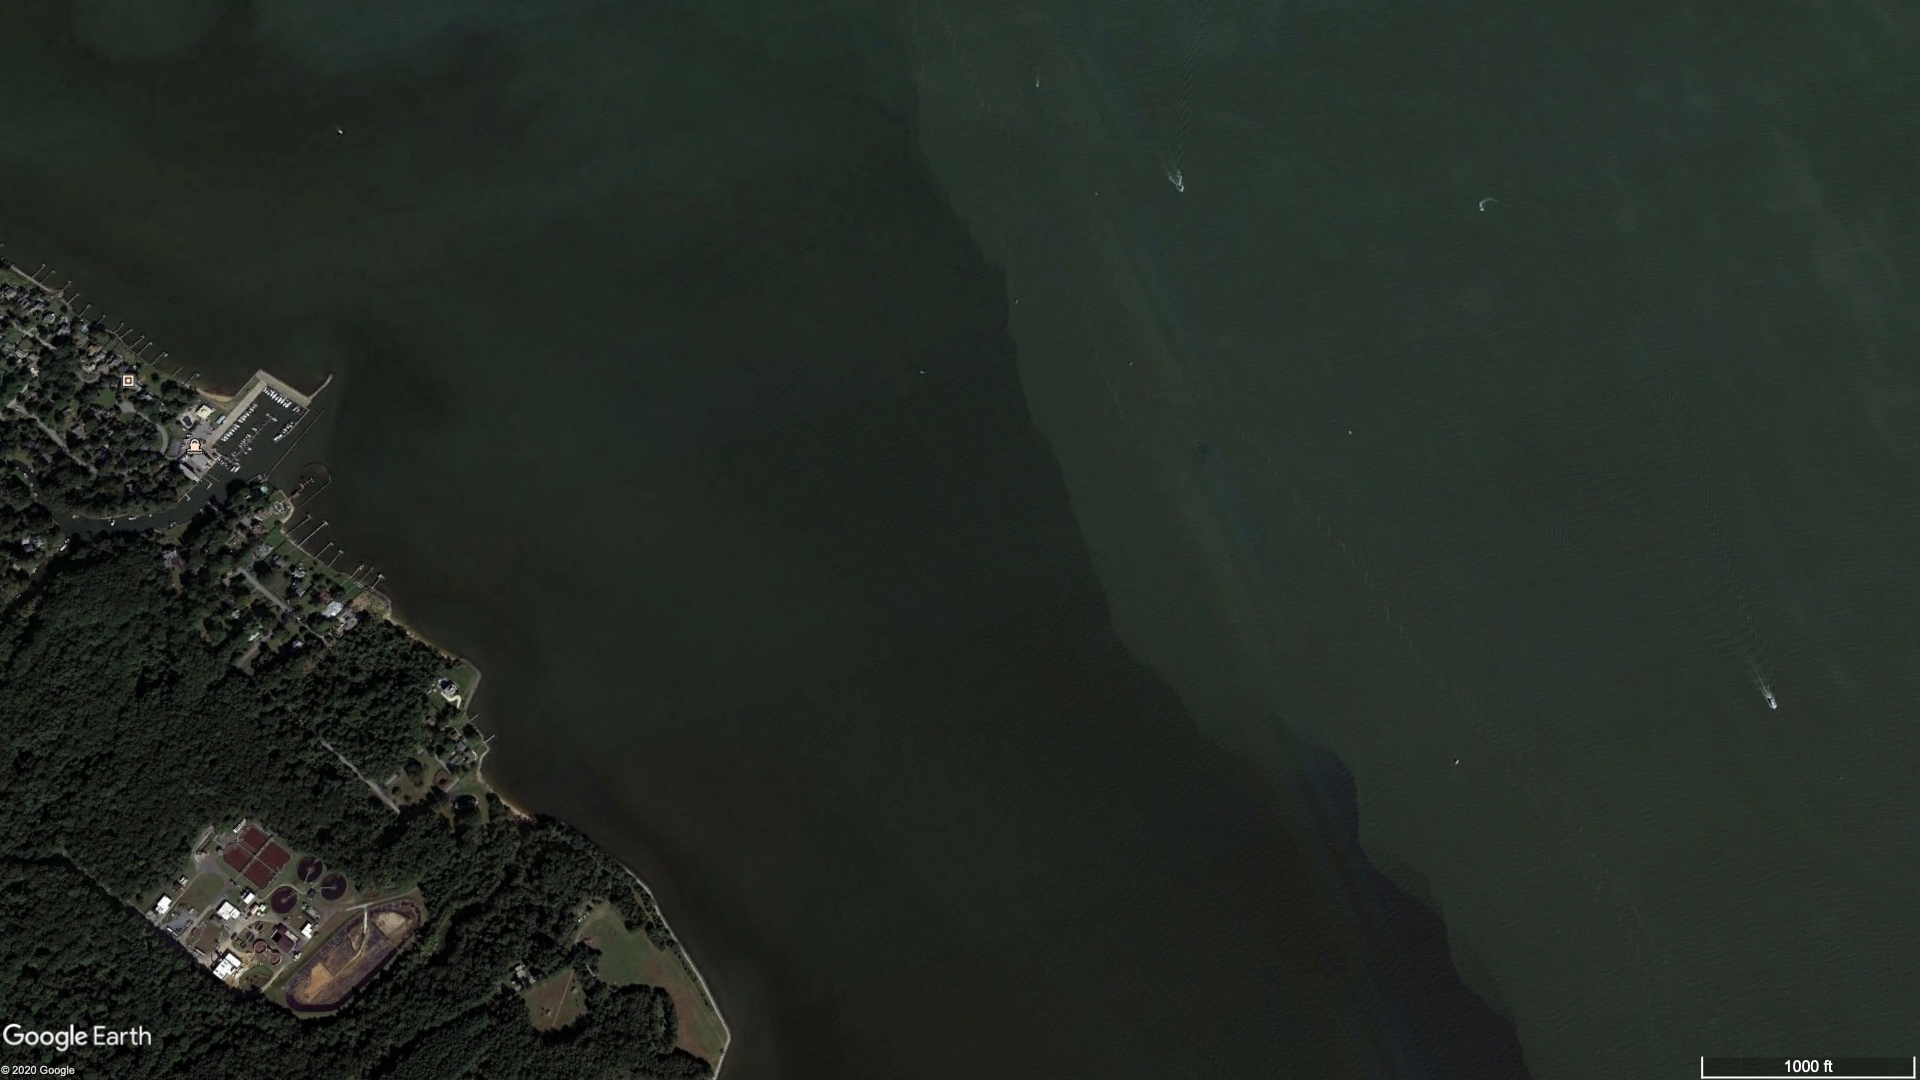boat: (1767, 698, 1778, 709), (1176, 185, 1184, 191), (1480, 206, 1484, 214), (336, 131, 343, 135), (1455, 758, 1458, 765), (919, 371, 924, 375), (1348, 431, 1352, 435), (1095, 193, 1098, 195), (1129, 363, 1131, 367), (1036, 84, 1039, 87), (1015, 301, 1017, 305)
